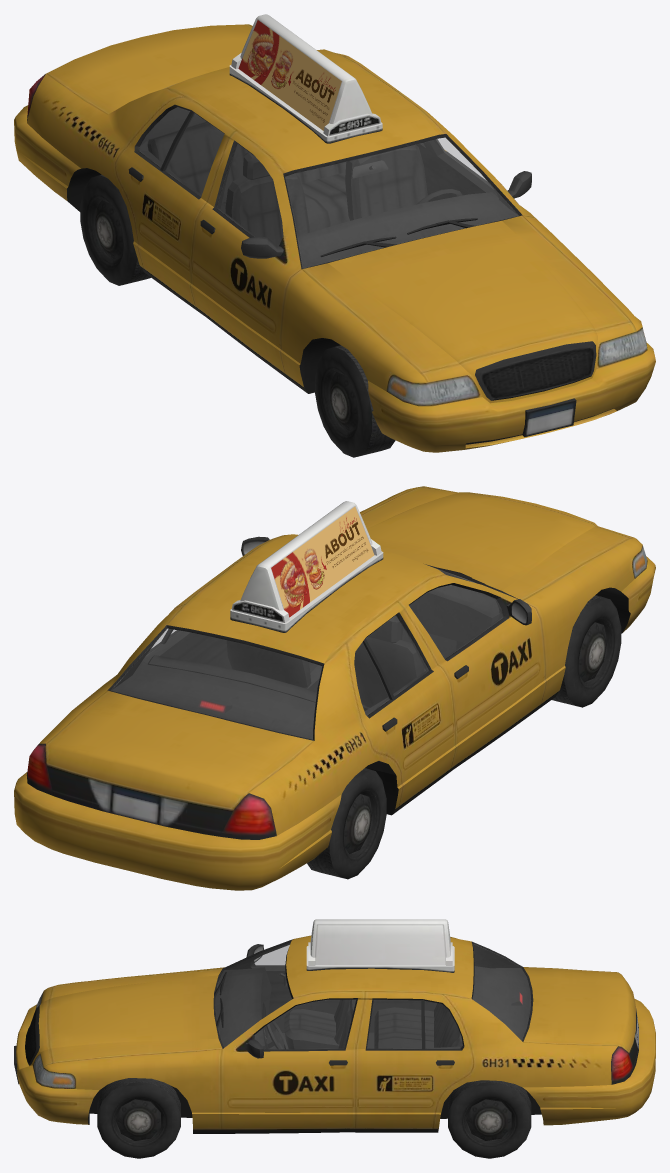
File: taxi_with_ad-transformed.glb
The picture shows the model from 3 angles, top to bottom: view 1: azimuth 30°, elevation 25°; view 2: azimuth 150°, elevation 25°; view 3: azimuth 270°, elevation 25°; orthographic projection. The views are drawn at different scales.
Parts seen in each view (by area): view 1: TaxiCar01.001, TaxiCar01, BurgerBillboard, WheelFR, WheelBR; view 2: TaxiCar01.001, TaxiCar01, BurgerBillboard, WheelBR, WheelFR; view 3: TaxiCar01.001, TaxiCar01, WheelFL, WheelBL.
Boxes of the visible parts, left/top/right/bottom form: TaxiCar01.001: left=14, top=14, right=655, bottom=452; TaxiCar01: left=140, top=85, right=518, bottom=267; BurgerBillboard: left=238, top=20, right=341, bottom=130; WheelFR: left=315, top=345, right=395, bottom=457; WheelBR: left=80, top=174, right=150, bottom=285; TaxiCar01.001: left=14, top=486, right=655, bottom=890; TaxiCar01: left=112, top=568, right=502, bottom=738; BurgerBillboard: left=271, top=506, right=374, bottom=617; WheelBR: left=307, top=768, right=386, bottom=879; WheelFR: left=552, top=595, right=621, bottom=707; TaxiCar01.001: left=14, top=919, right=655, bottom=1133; TaxiCar01: left=216, top=943, right=530, bottom=1049; WheelFL: left=97, top=1078, right=180, bottom=1158; WheelBL: left=448, top=1080, right=531, bottom=1158.
Size of the model in its own units: 0.7791 by 0.6634 by 2.
3 materials, 3 textured.
